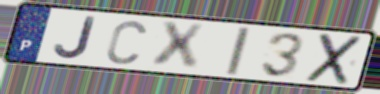3: (260, 32, 306, 78)
C: (104, 18, 149, 66)
I: (224, 26, 253, 77)
J: (52, 15, 98, 61)
X: (302, 32, 365, 87), (150, 21, 208, 72)
